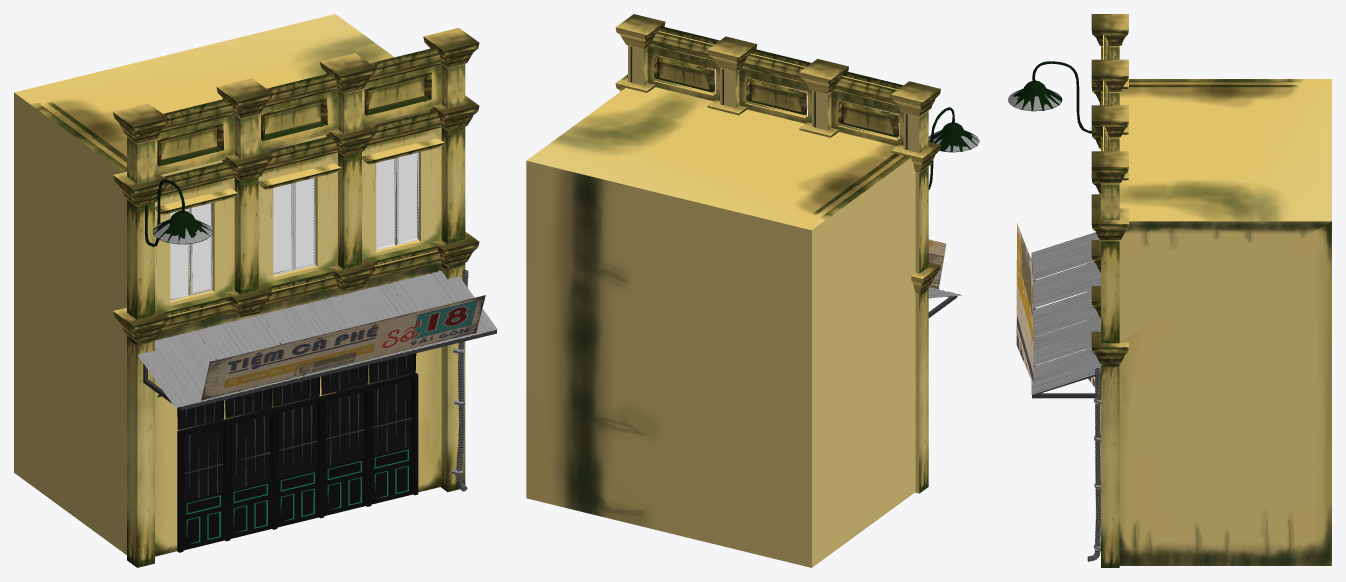
The model's file is nhahanoinew.fbx.
3 renders of one model, left to right at view 1: azimuth 30°, elevation 25°; view 2: azimuth 150°, elevation 25°; view 3: azimuth 270°, elevation 25°, orthographic. The views are drawn at different scales.
Parts seen in each view (by area): view 1: Cube.005; view 2: Cube.005; view 3: Cube.005.
Part boxes in pixels (<box>): Cube.005: <box>14,14,497,567</box>; Cube.005: <box>526,14,979,567</box>; Cube.005: <box>1008,14,1331,567</box>.
Bounding box in the file's own units: 2104 × 2536 × 1839.
